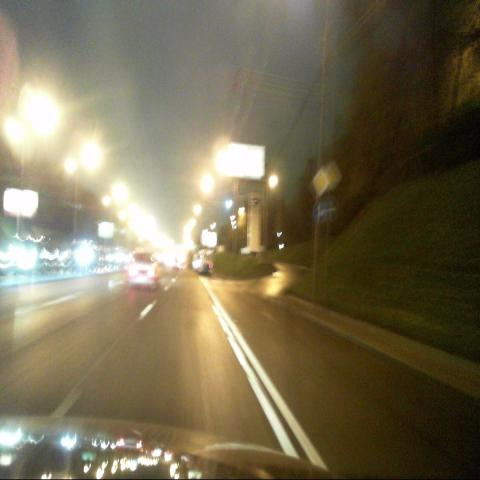4_1_4: (312, 200, 325, 222)
